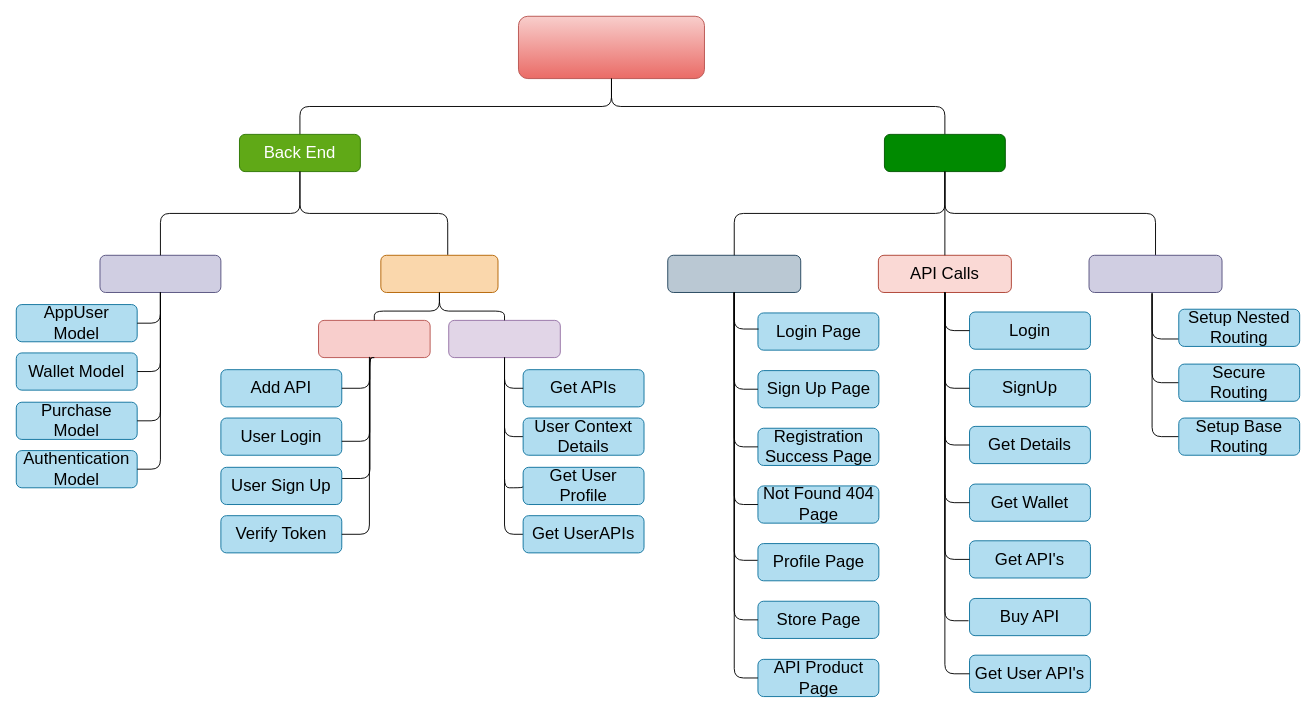
Some shapes in this 1316 by 714 pixel diagram are drawn without their labels. The box of each missing label's shape, as (x1, y1, x2, y2) in pixels:
API Management System: (518, 15, 704, 79)
Controllers: (380, 254, 498, 292)
Front End: (884, 133, 1005, 172)
Models: (99, 254, 221, 292)
Navigation Logic: (1088, 254, 1222, 292)
Page Design: (667, 254, 801, 292)
Requests: (318, 319, 430, 358)
Responses: (448, 319, 560, 358)
